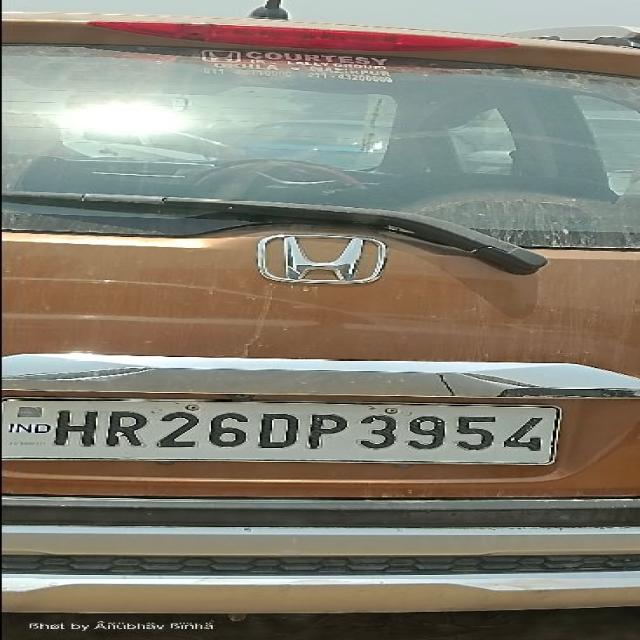license_plate: (1, 359, 636, 499), (2, 395, 563, 466)
